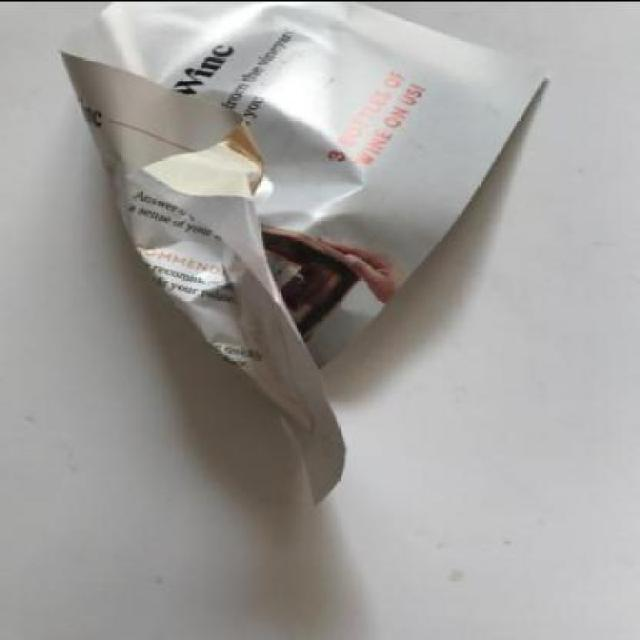PAPER: (58, 2, 554, 504)
